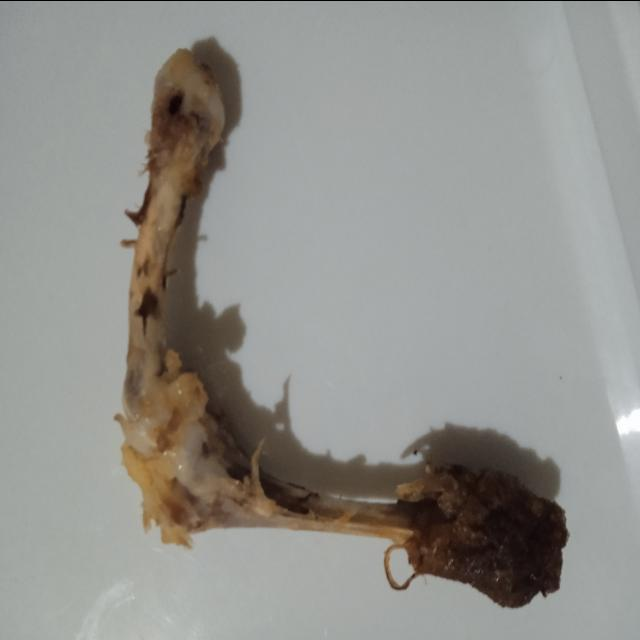bone: (99, 28, 572, 640)
